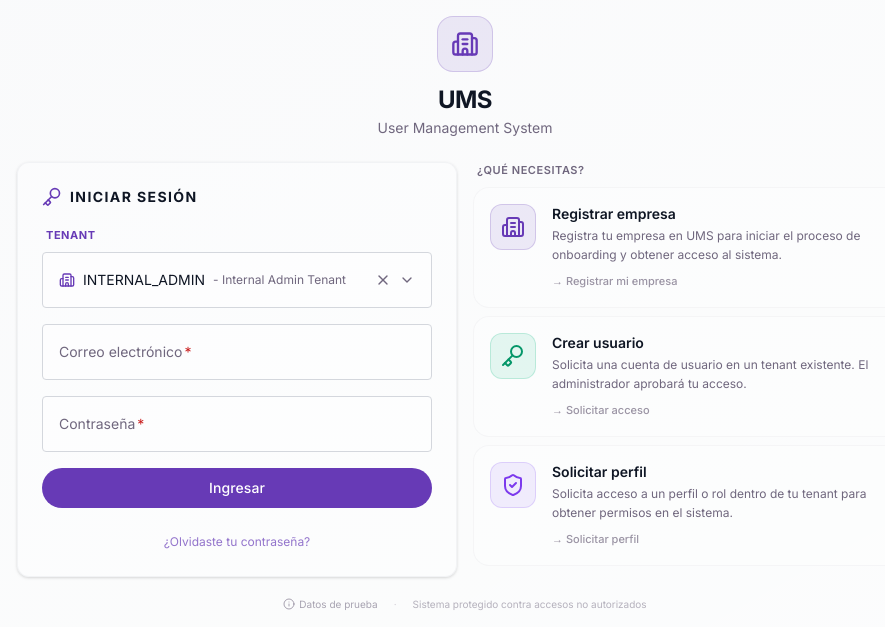
Test: LoginScreen › replaces the login form with the forgot password view
Step 1. Click the button "¿Olvidaste tu contraseña?" → (237, 542), box [164,534,310,550]
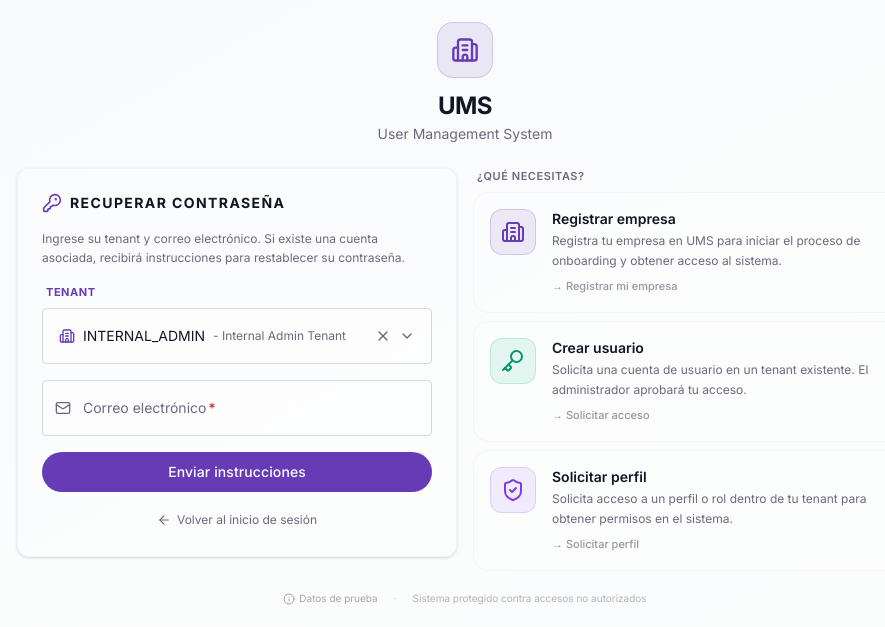
Result: the heading "Recuperar Contraseña" is shown at [70,193,285,213]
Result: the heading "Iniciar Sesión" is gone
Result: the button "Ingresar" is gone
